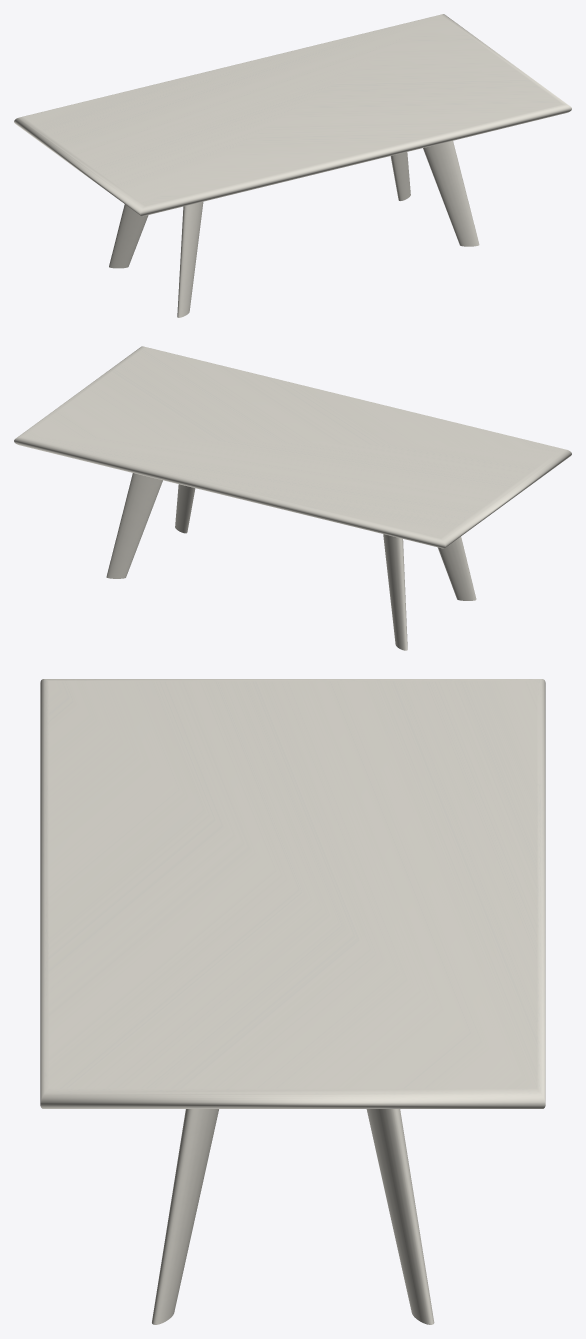
Rendered from pale_recta_round_ferdinantwalnut.glb.
3 renders of one model, top to bottom at view 1: azimuth 30°, elevation 25°; view 2: azimuth 150°, elevation 25°; view 3: azimuth 270°, elevation 25°, orthographic. The views are drawn at different scales.
Parts seen in each view (by area): view 1: round_recta, ferdinandwalnut; view 2: round_recta, ferdinandwalnut; view 3: round_recta, ferdinandwalnut.
Boxes of the visible parts, left/top/right/bottom form: round_recta: left=14, top=14, right=571, bottom=216; ferdinandwalnut: left=109, top=141, right=479, bottom=317; round_recta: left=14, top=346, right=571, bottom=548; ferdinandwalnut: left=106, top=473, right=476, bottom=650; round_recta: left=40, top=679, right=545, bottom=1108; ferdinandwalnut: left=152, top=1109, right=434, bottom=1324.
Bounding box in the file's own units: 7.76 × 2.51 × 3.93.
Materials: 1 (1 with a texture image).
